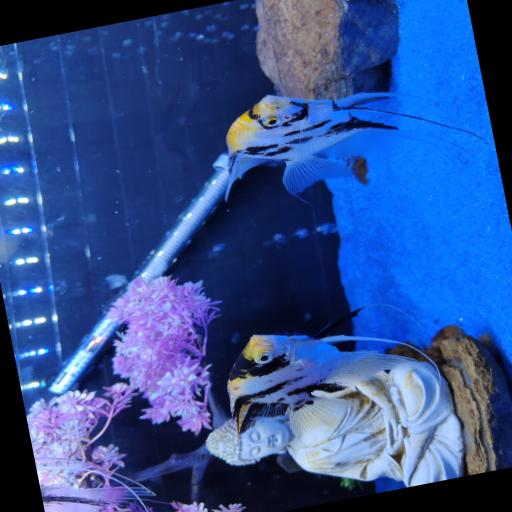Fish: (226, 93, 481, 197), (228, 309, 419, 436), (40, 474, 154, 511)
